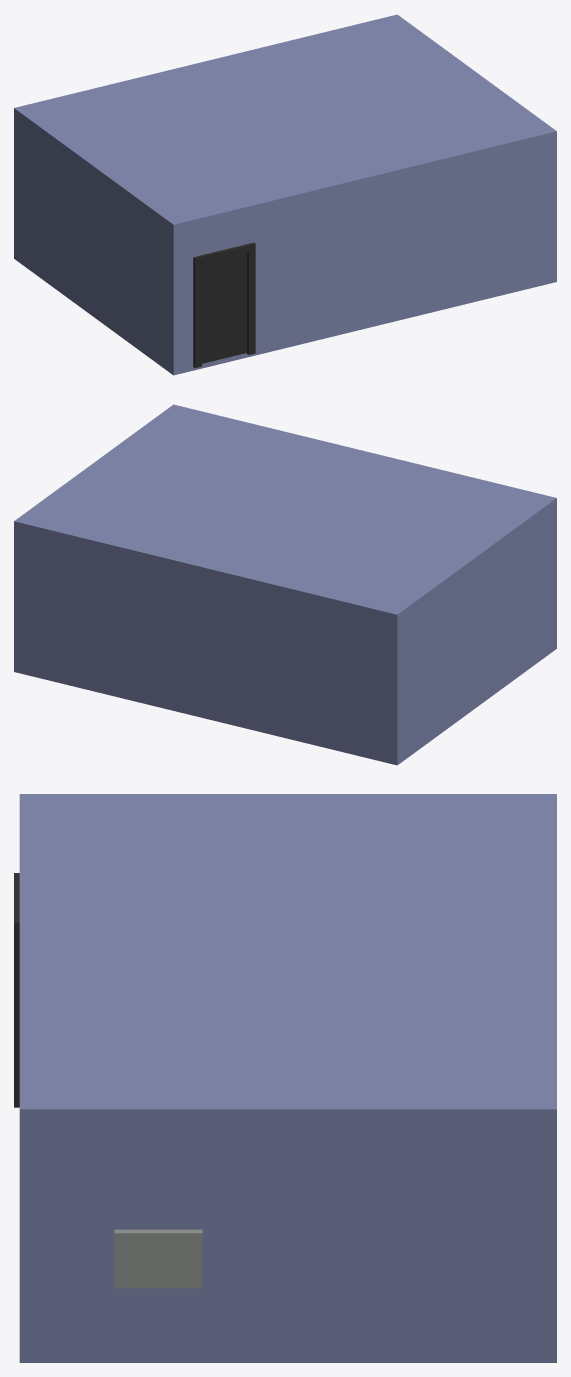
File: Room.fbx
3 renders of one model, top to bottom at view 1: azimuth 30°, elevation 25°; view 2: azimuth 150°, elevation 25°; view 3: azimuth 270°, elevation 25°, orthographic. The views are drawn at different scales.
Visible parts, largest first — view 1: Cube, Cube.005, Cube.001; view 2: Cube; view 3: Cube, Cube.004, Cube.001.
Part boxes in pixels (x1=…): Cube: x1=14, y1=14, x2=556, y2=375; Cube.005: x1=202, y1=253, x2=247, y2=363; Cube.001: x1=193, y1=242, x2=255, y2=367; Cube: x1=14, y1=404, x2=556, y2=765; Cube: x1=19, y1=794, x2=556, y2=1362; Cube.004: x1=114, y1=1229, x2=202, y2=1288; Cube.001: x1=14, y1=873, x2=19, y2=1107.
Bounding box in the file's own units: 1705 × 633 × 1228.
